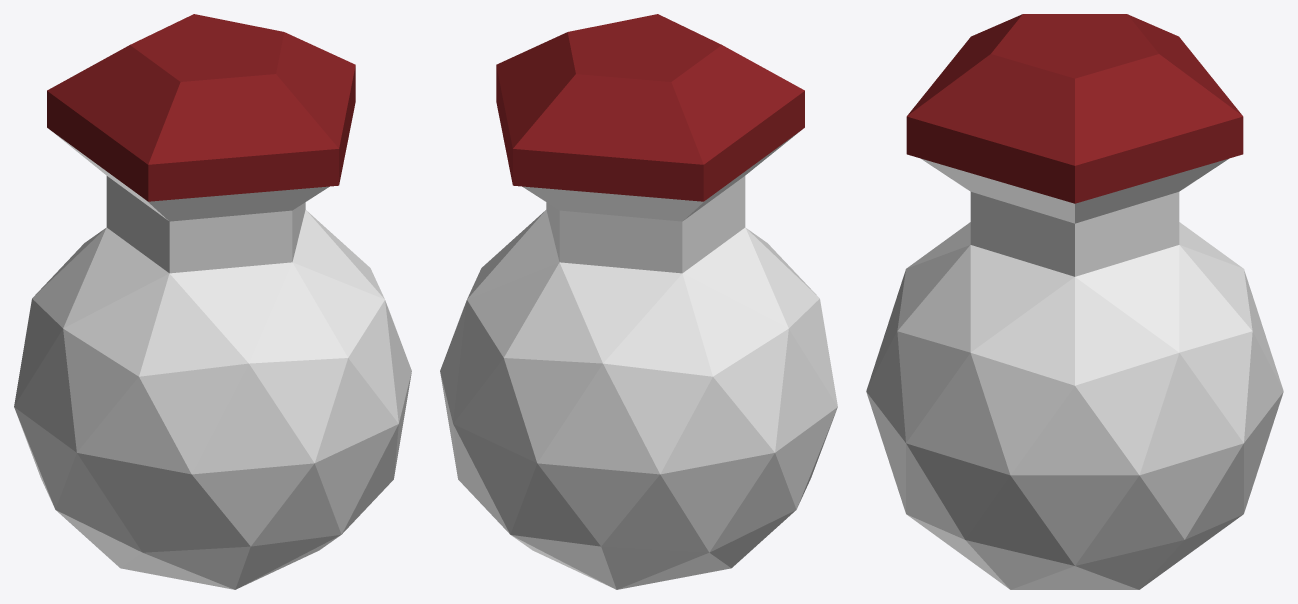
File: Bottle.fbx
3 views of the same model, side by side, from view 1: azimuth 30°, elevation 25°; view 2: azimuth 150°, elevation 25°; view 3: azimuth 270°, elevation 25° (orthographic). The views are drawn at different scales.
Visible parts, largest first — view 1: Bottle, Cap; view 2: Bottle, Cap; view 3: Bottle, Cap.
Part boxes in pixels (left/top/right/bottom): Bottle: left=14, top=131, right=411, bottom=589; Cap: left=47, top=14, right=355, bottom=201; Bottle: left=440, top=131, right=837, bottom=589; Cap: left=496, top=14, right=804, bottom=201; Bottle: left=866, top=158, right=1283, bottom=589; Cap: left=906, top=14, right=1243, bottom=203.
Size of the model in its own units: 190 by 284 by 200.
